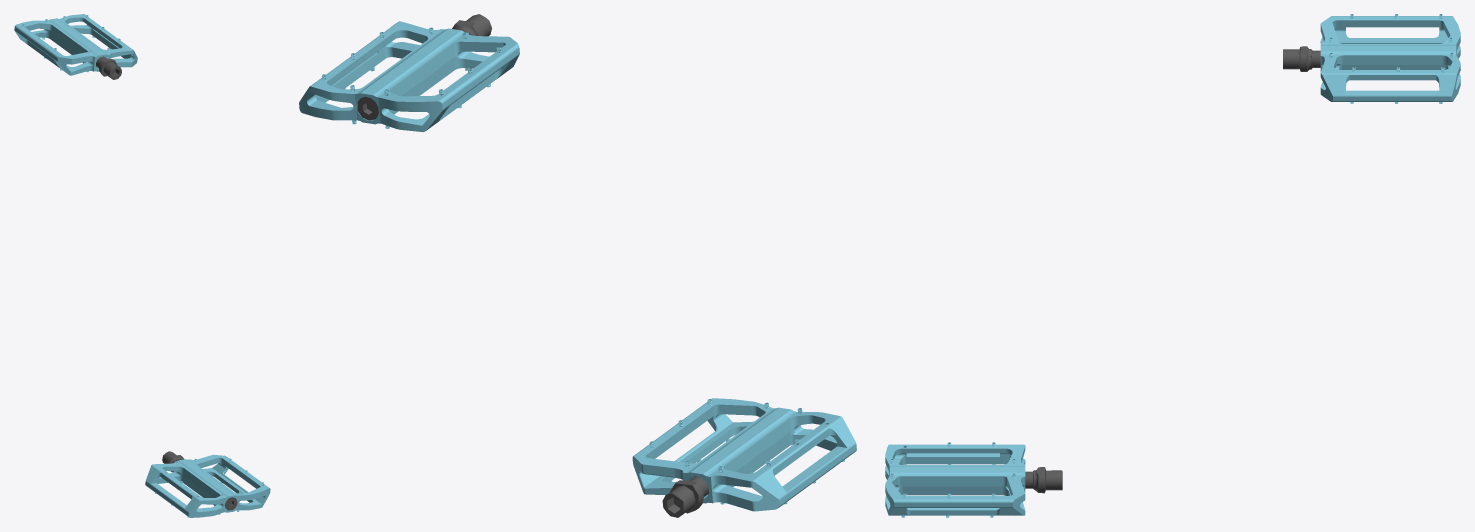
File: Mango_Pedals_Platform.glb
3 views of the same model, side by side, from view 1: azimuth 30°, elevation 25°; view 2: azimuth 150°, elevation 25°; view 3: azimuth 270°, elevation 25° (orthographic). The views are drawn at different scales.
Parts seen in each view (by area): view 1: no_transformations (×2); view 2: no_transformations (×2); view 3: no_transformations (×2).
Part boxes in pixels (bbox=[...]): no_transformations (×2): bbox=[14, 14, 270, 517]; no_transformations (×2): bbox=[299, 14, 856, 517]; no_transformations (×2): bbox=[885, 14, 1460, 517].
Size of the model in its own units: 121 by 369 by 402.
